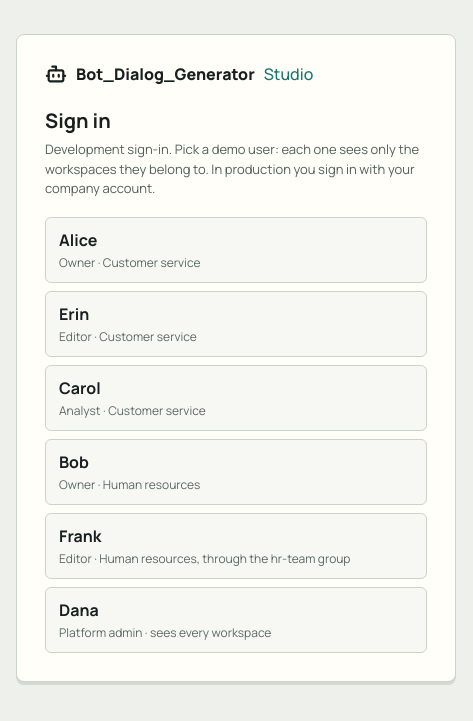
Sign-in › explains why sign-in failed
The image size is (473, 721).
Click the text "Alice": (78, 240) [59,229,97,251]
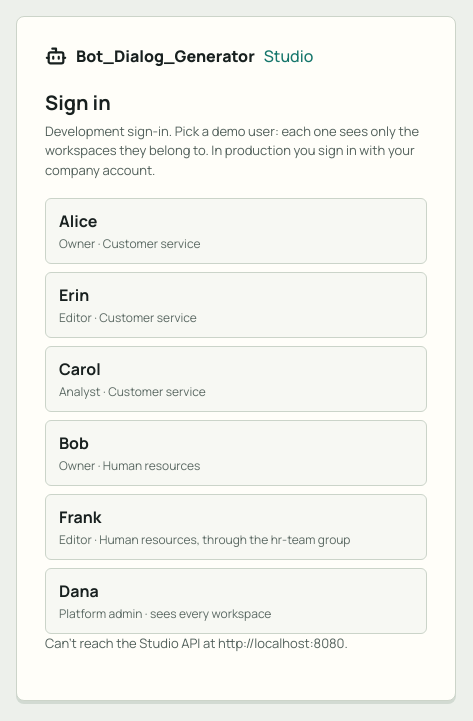
Check: the message shows "Can't reach the Studio API", box [45,634,348,652]
